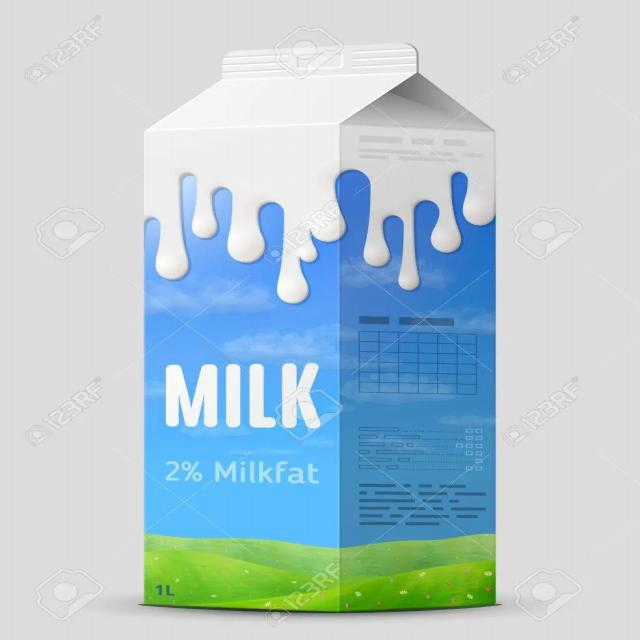non_white_jug: (125, 39, 508, 631)
